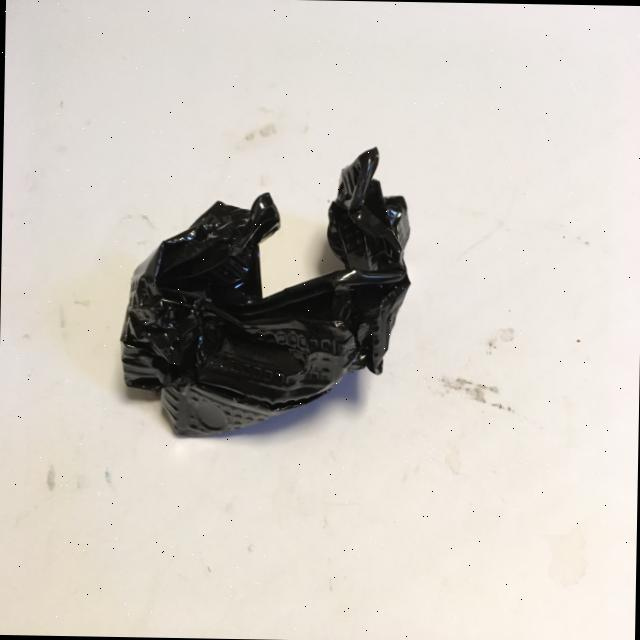plastic: (117, 140, 413, 442)
